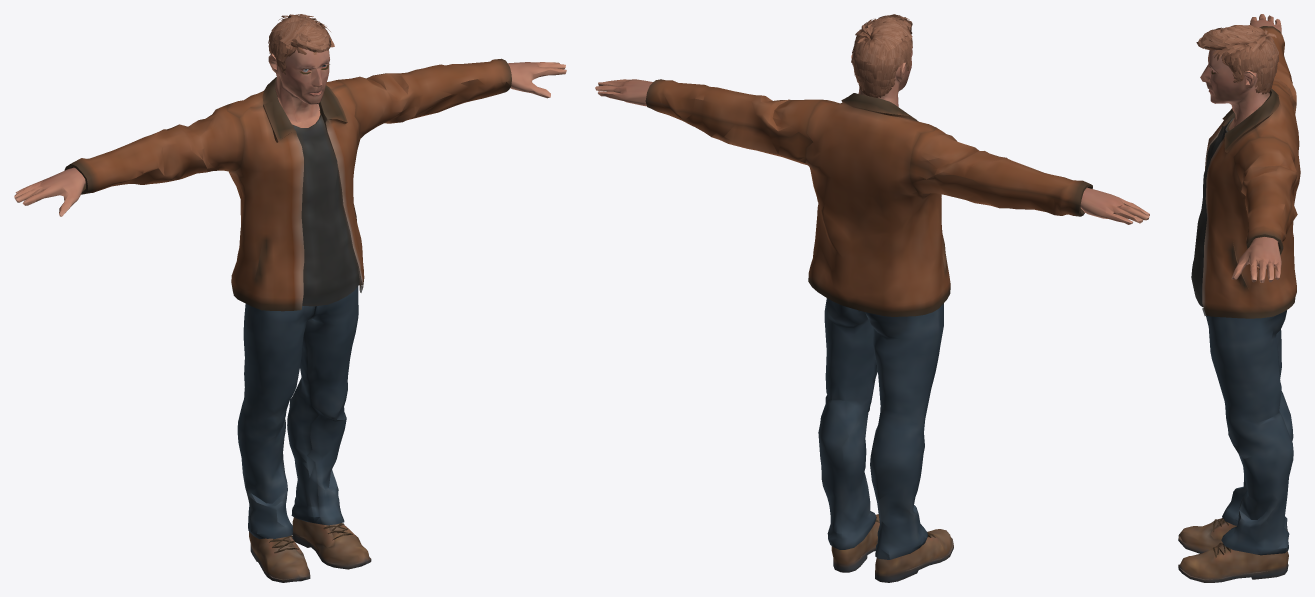
Rendered from male_civilian.glb.
3 renders of one model, left to right at view 1: azimuth 30°, elevation 25°; view 2: azimuth 150°, elevation 25°; view 3: azimuth 270°, elevation 25°, orthographic.
Parts seen in each view (by area): view 1: male_civilian; view 2: male_civilian; view 3: male_civilian.
Part boxes in pixels (bbox=[...]): male_civilian: bbox=[14, 14, 566, 582]; male_civilian: bbox=[595, 14, 1149, 582]; male_civilian: bbox=[1178, 14, 1300, 582].
Size of the model in its own units: 1.92 by 1.8 by 0.3729.
Materials: 1 (1 with a texture image).
